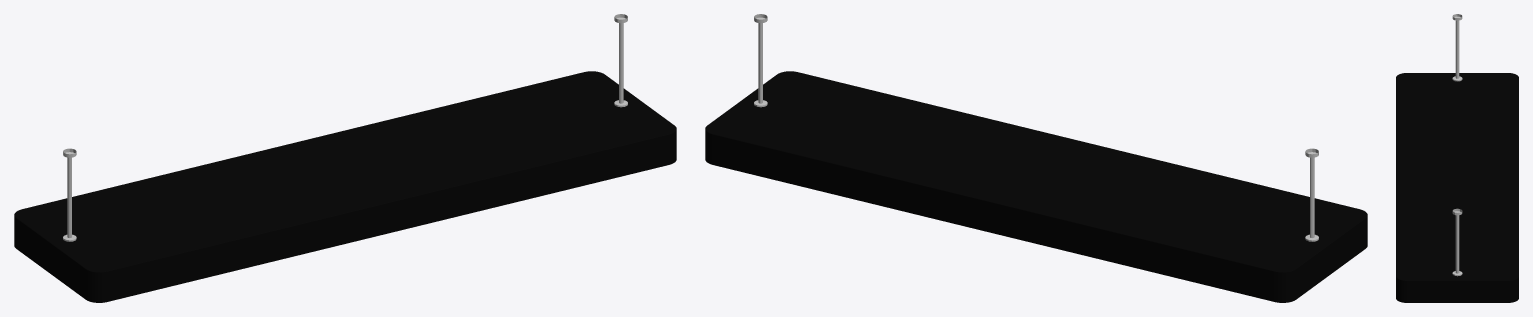
File: Office_-_Light_fixture_2.001.gltf
The picture shows the model from 3 angles, left to right: view 1: azimuth 30°, elevation 25°; view 2: azimuth 150°, elevation 25°; view 3: azimuth 270°, elevation 25°; orthographic projection. The views are drawn at different scales.
Parts seen in each view (by area): view 1: Office - Light fixture 2_mesh; view 2: Office - Light fixture 2_mesh; view 3: Office - Light fixture 2_mesh.
Boxes of the visible parts, x1,y1,x2,y2 form: Office - Light fixture 2_mesh: [14, 14, 676, 302]; Office - Light fixture 2_mesh: [705, 14, 1367, 302]; Office - Light fixture 2_mesh: [1396, 14, 1518, 302].
Size of what is drawn, in the model's own units: 4 by 0.7775 by 1.
